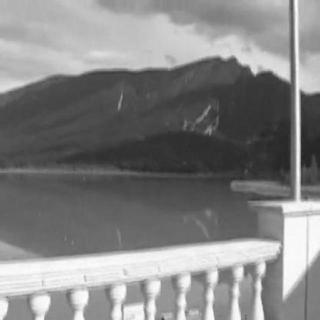other: (269, 197, 317, 273)
